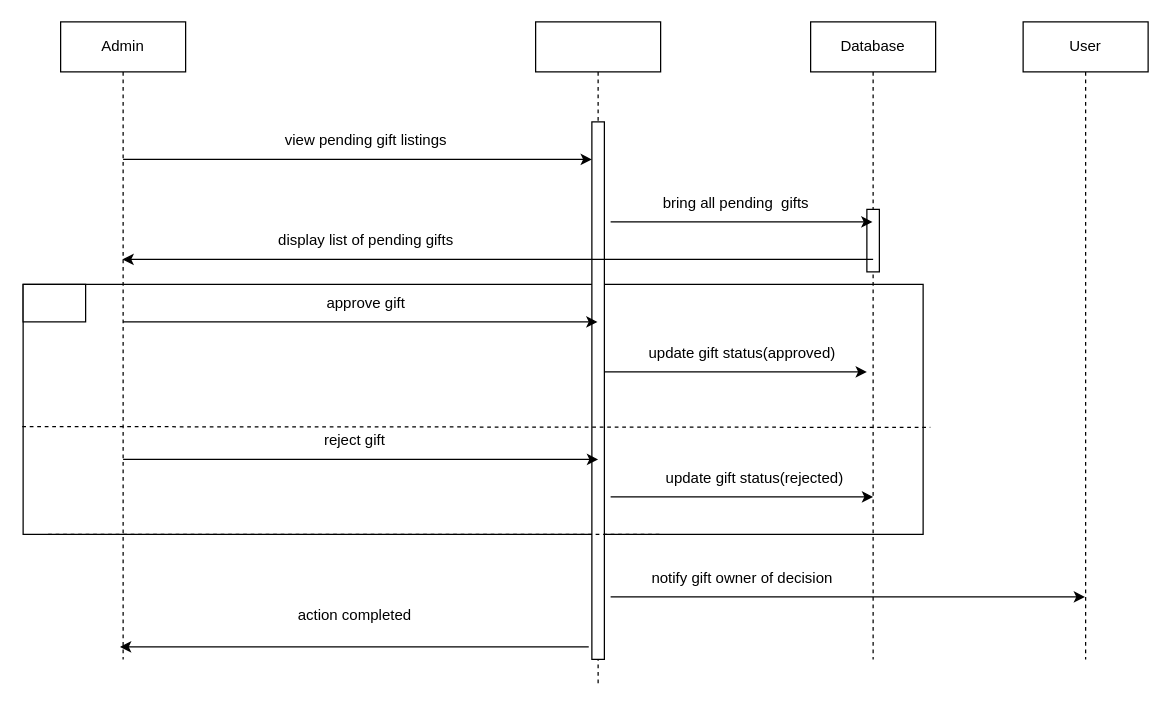
Some shapes in this 1170 by 706 pixel diagram are drawn without their labels. Here are the shapes that lost their labels. From the top down, the box of each, then its label:
(22, 283, 86, 322): alt
(534, 21, 661, 684): System
